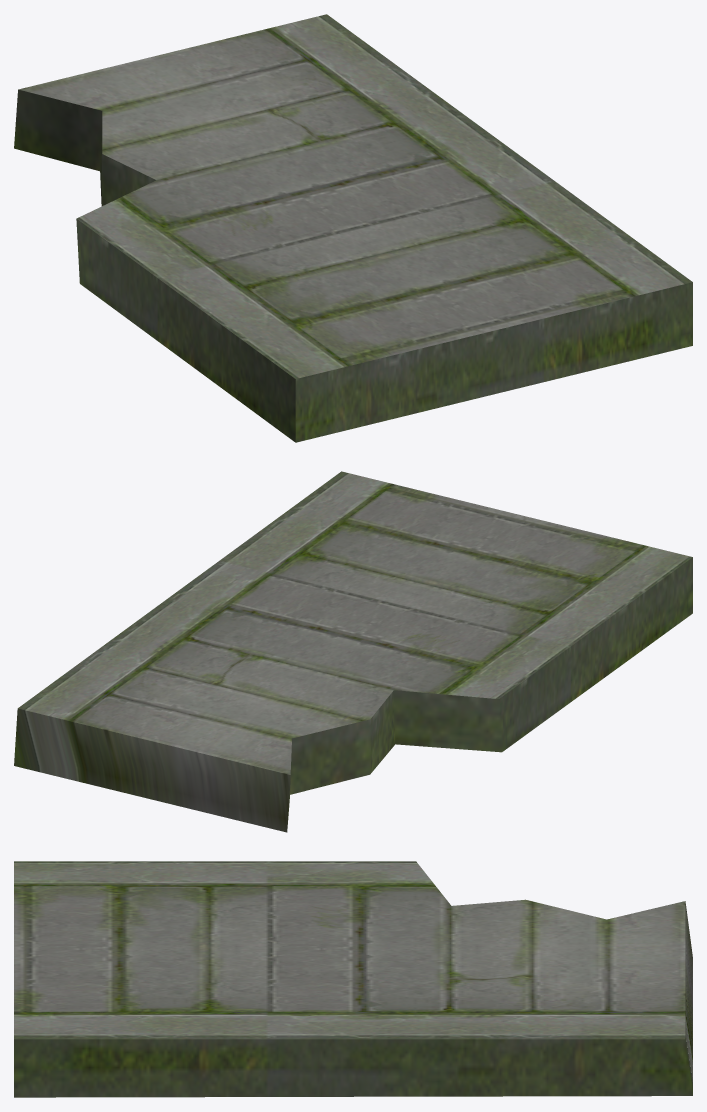
The model's file is yw_yanziwu_dimian02.FBX.
The picture shows the model from 3 angles, top to bottom: view 1: azimuth 30°, elevation 25°; view 2: azimuth 150°, elevation 25°; view 3: azimuth 270°, elevation 25°; orthographic projection. The views are drawn at different scales.
Visible parts, largest first — view 1: yw_yanziwu_dimian02; view 2: yw_yanziwu_dimian02; view 3: yw_yanziwu_dimian02.
Part boxes in pixels (<box>): yw_yanziwu_dimian02: <box>14,14,692,442</box>; yw_yanziwu_dimian02: <box>14,471,692,832</box>; yw_yanziwu_dimian02: <box>14,861,692,1097</box>.
Bounding box in the file's own units: 393 × 60.09 × 633.
